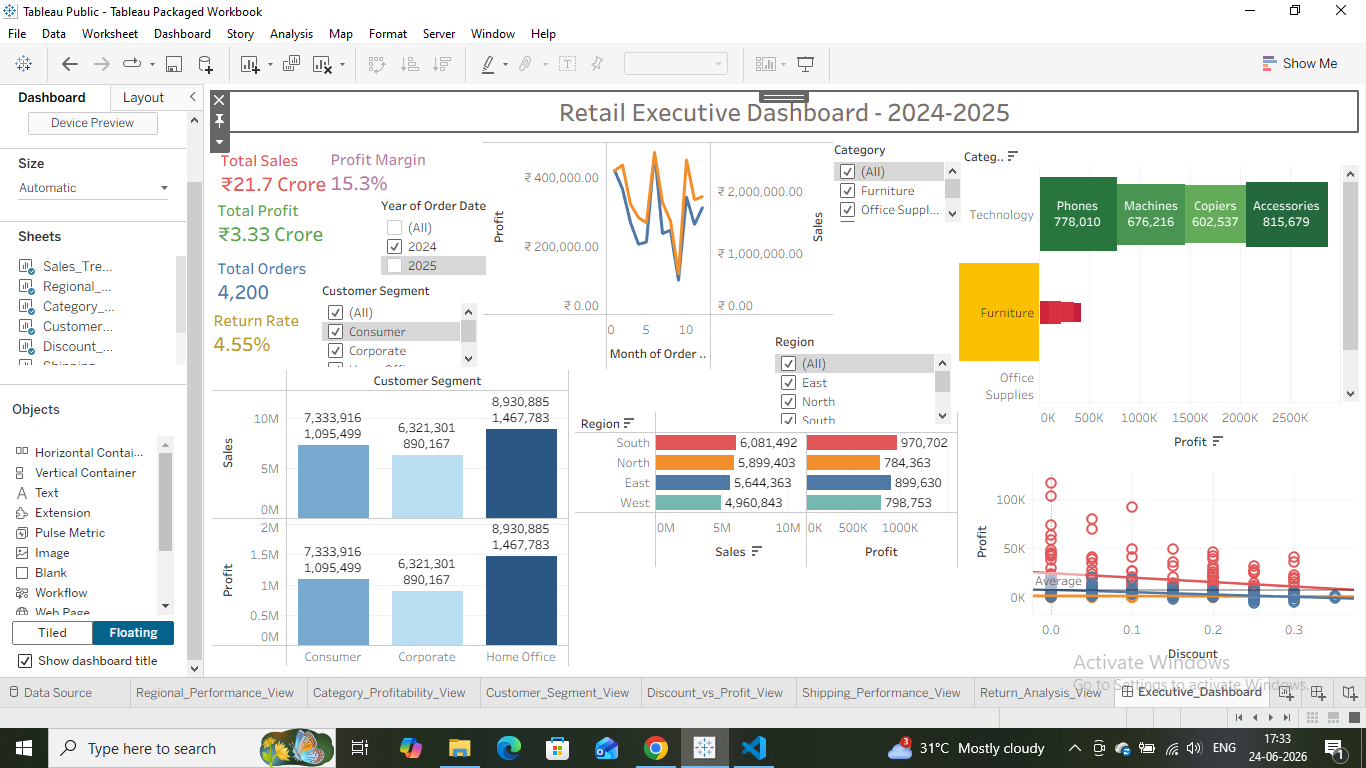

The page's visual inventory and layout, read from the dashboard file:
{"tool":"tableau","page":{"name":"Executive_Dashboard","canvas":[1000,1000],"units":"permille","ordinal":0},"visuals":[{"type":"title","box":[6.9,13.5,986.2,65.9]},{"type":"text","box":[106.8,71,117.1,157.1]},{"type":"filter","title":"Category_Profitability_View","param":"[federated.0hghpv81nnwc3n14sd8d20xajxht].[none:category:nk]","box":[542.6,96.3,109.4,136.8]},{"type":"worksheet","title":"Sales_Trend_View","mark":"Automatic","rows":["profit","sales"],"cols":["order_date"],"box":[240.3,98,302.3,385.1]},{"type":"text","box":[12.1,101.4,110.2,99.7]},{"type":"worksheet","title":"Category_Profitability_View","mark":"Automatic","rows":["category"],"cols":["profit"],"box":[650.3,103,344.5,527]},{"type":"filter","title":"Sales_Trend_View","param":"[federated.0hghpv81nnwc3n14sd8d20xajxht].[yr:order_date:ok]","box":[152.5,190.9,90.4,136.8]},{"type":"text","box":[9.5,196,95.6,79.4]},{"type":"text","box":[9.5,268.6,97.3,128.4]},{"type":"filter","title":"Customer_Segment_View","param":"[federated.0hghpv81nnwc3n14sd8d20xajxht].[none:customer_segment:nk]","box":[101.6,334.5,133.5,143.6]},{"type":"text","box":[6,369.9,104.2,103]},{"type":"filter","title":"Regional_Performance_View","param":"[federated.0hghpv81nnwc3n14sd8d20xajxht].[none:region:nk]","box":[491.8,420.6,151.6,153.7]},{"type":"worksheet","title":"Customer_Segment_View","mark":"Automatic","rows":["sales","profit"],"cols":["customer_segment"],"box":[6.9,483.1,307.5,501.7]},{"type":"worksheet","title":"Regional_Performance_View","mark":"Automatic","rows":["region"],"cols":["sales","profit"],"box":[319.6,554.1,329.9,425.7]},{"type":"worksheet","title":"Discount_vs_Profit_View","mark":"Automatic","rows":["profit"],"cols":["discount"],"box":[656.3,655.4,334.2,332.8]}]}

Visuals, with their boxes on the dashboard's canvas, which has no fixed pixel size, in thousandths of its width and height (x1, y1, x2, y2). These are canvas units, not pixel positions in the 1366x768 screenshot, which may show the page scaled, cropped or inside an application window:
title: 7/14/993/79
text: 107/71/224/228
"Category_Profitability_View" filter: 543/96/652/233
"Sales_Trend_View" worksheet: 240/98/543/483
text: 12/101/122/201
"Category_Profitability_View" worksheet: 650/103/995/630
"Sales_Trend_View" filter: 152/191/243/328
text: 10/196/105/275
text: 10/269/107/397
"Customer_Segment_View" filter: 102/334/235/478
text: 6/370/110/473
"Regional_Performance_View" filter: 492/421/643/574
"Customer_Segment_View" worksheet: 7/483/314/985
"Regional_Performance_View" worksheet: 320/554/650/980
"Discount_vs_Profit_View" worksheet: 656/655/990/988
